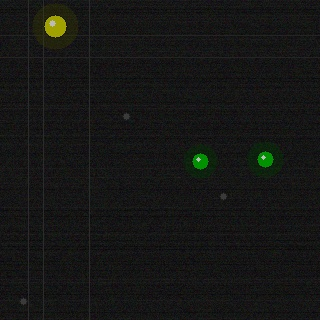green_normal: (255, 149, 275, 169), (190, 151, 210, 171)
yellow_warning: (42, 13, 68, 39)
